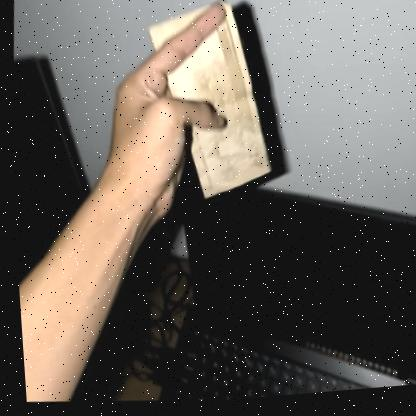five-back-vef: (134, 0, 281, 209)
